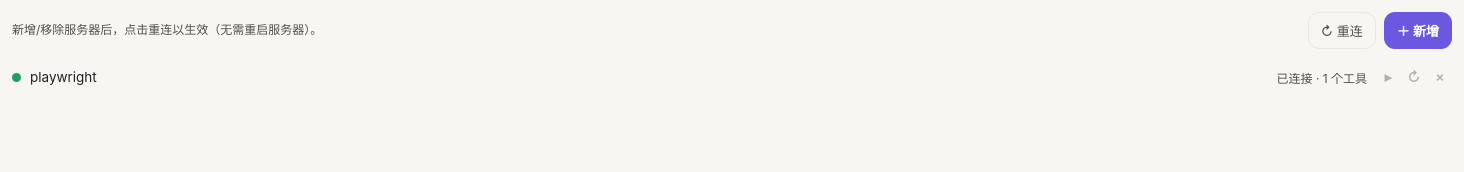
Scenario: McpPanel › lists servers with status and tool count; expands tools
Expected: the text "playwright" is shown, [30,69,97,85]
Expected: the element with class "connected" is shown, [12,72,21,82]
What coordinates should you click on to do the following:
click the button named "查看工具"
I would click on:
 (1388, 77)
Its box is [1376,65,1400,89].
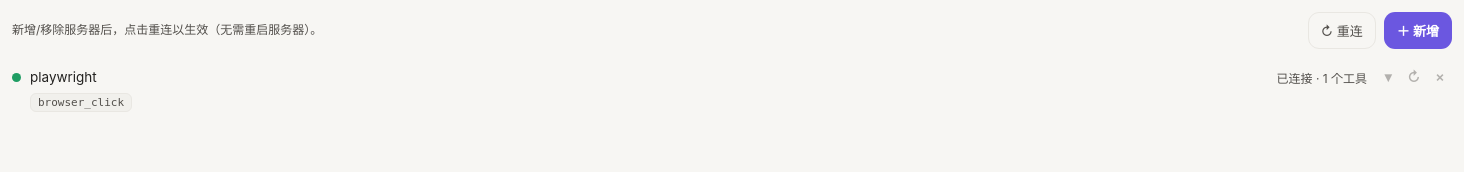
Expected: the list item "browser_click" is shown, [30,93,132,112]
